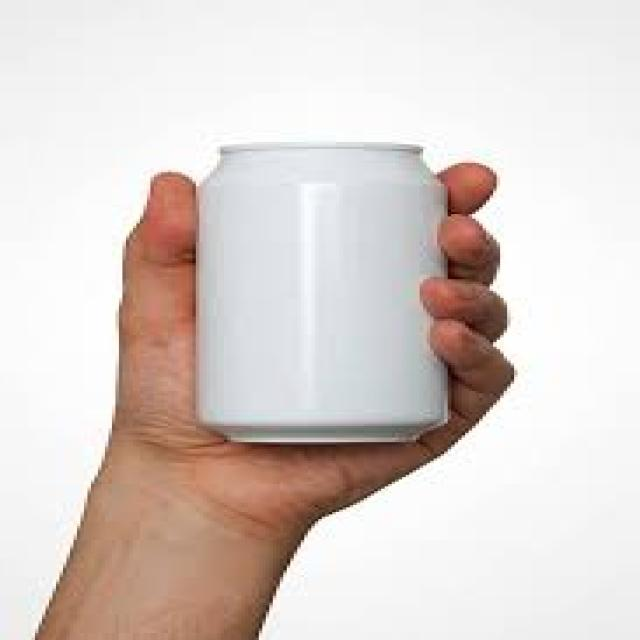Cans: (182, 135, 479, 444)
